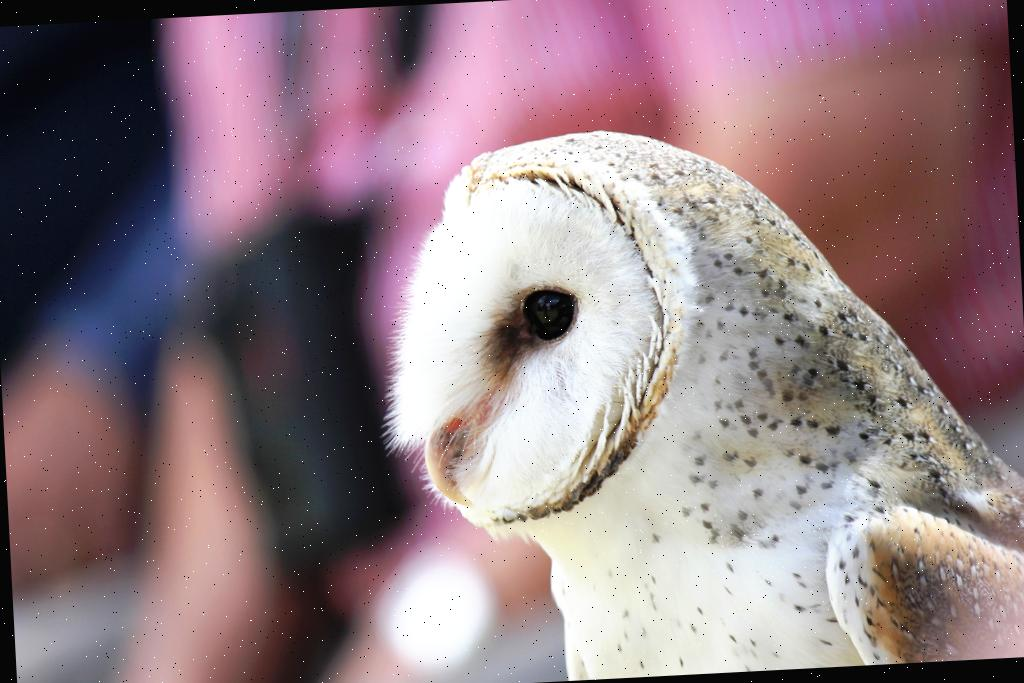Owl: (370, 98, 1024, 683)
